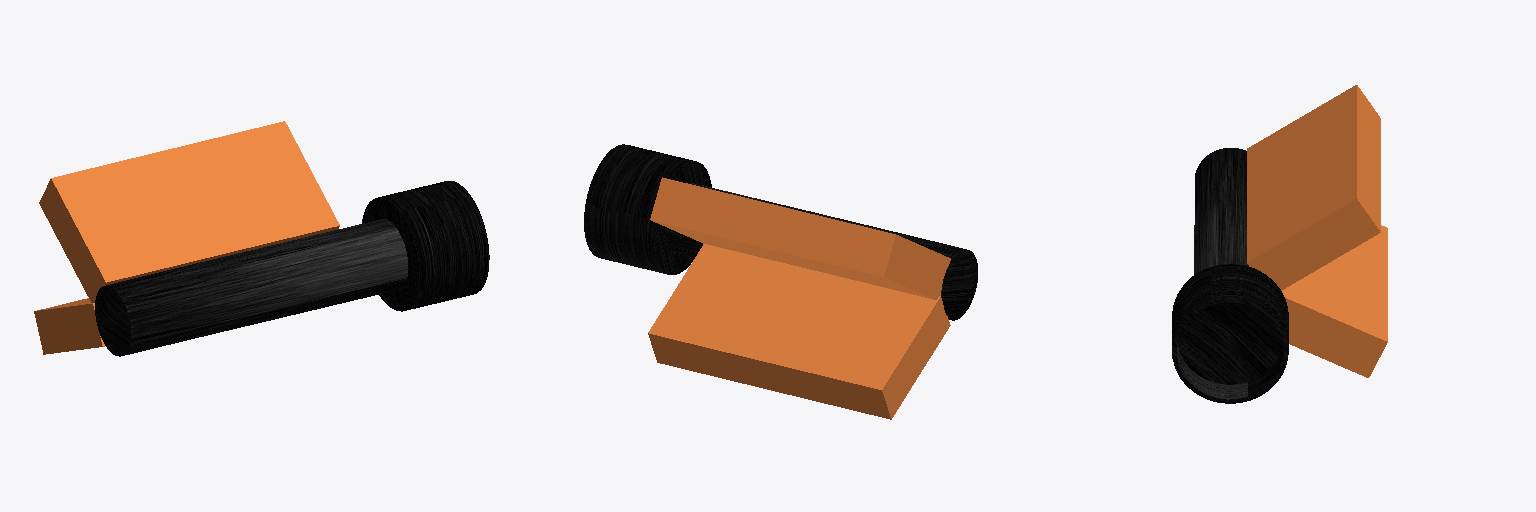
3 renders of one model, left to right at view 1: azimuth 30°, elevation 25°; view 2: azimuth 150°, elevation 25°; view 3: azimuth 270°, elevation 25°, orthographic.
Parts seen in each view (by area): view 1: Circle; view 2: Circle; view 3: Circle.
Part boxes in pixels (left/top/right/bottom): Circle: left=34, top=121, right=489, bottom=356; Circle: left=584, top=144, right=977, bottom=419; Circle: left=1172, top=85, right=1387, bottom=403.
Bounding box in the file's own units: 2.79 × 1.34 × 1.45.
Materials: 1 (1 with a texture image).